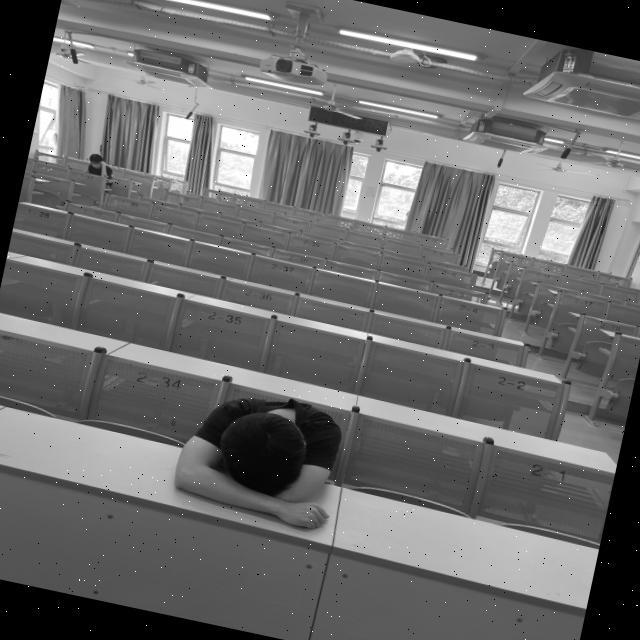sleep: (171, 379, 351, 534)
study: (80, 150, 117, 179)
